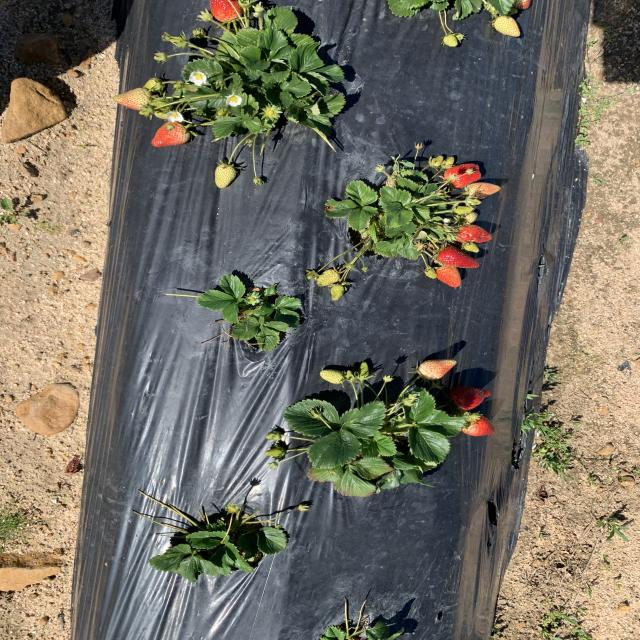unripe: (435, 244, 482, 269), (451, 384, 491, 412), (150, 120, 192, 146), (444, 161, 481, 187), (461, 412, 497, 438), (206, 0, 246, 21), (455, 225, 493, 242), (437, 266, 462, 288)
